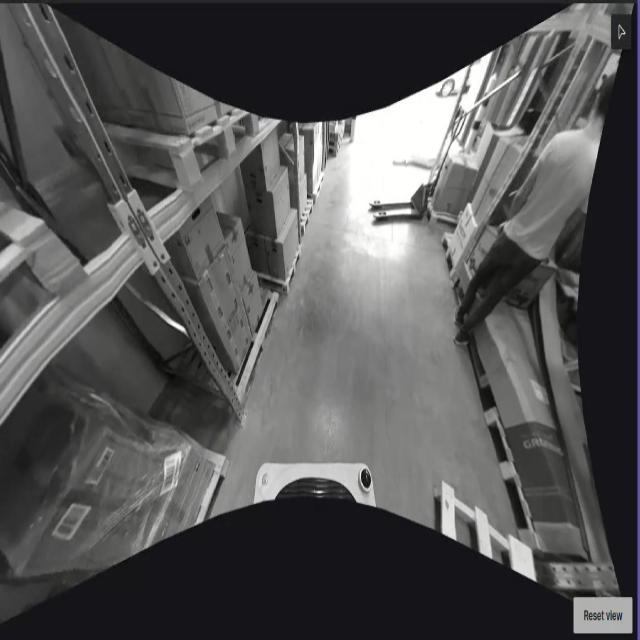Pallets-and-forklifts: (1, 214, 112, 409), (115, 108, 275, 202), (432, 476, 540, 590), (479, 404, 536, 536), (234, 289, 284, 409)
forlift: (366, 96, 474, 231)
